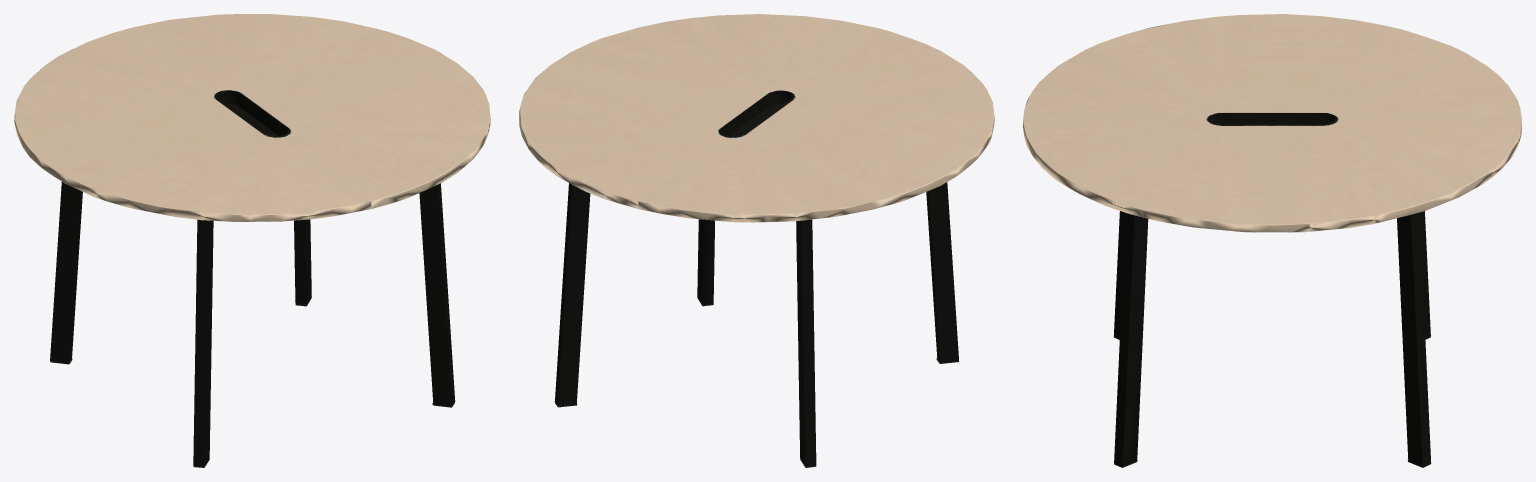
Rendered from 106 - MITTZON - 會議桌, 圓形 實木貼皮, 樺木黑色, 120x75 公分 IKEA 線上購物.glb.
3 renders of one model, left to right at view 1: azimuth 30°, elevation 25°; view 2: azimuth 150°, elevation 25°; view 3: azimuth 270°, elevation 25°, orthographic. The views are drawn at different scales.
Parts seen in each view (by area): view 1: Mesh_1, Mesh_0; view 2: Mesh_1, Mesh_0; view 3: Mesh_1, Mesh_0.
Boxes of the visible parts, <box> form: Mesh_1: <box>14,14,490,467</box>; Mesh_0: <box>214,90,290,137</box>; Mesh_1: <box>519,14,994,467</box>; Mesh_0: <box>718,90,795,137</box>; Mesh_1: <box>1023,14,1521,467</box>; Mesh_0: <box>1207,113,1337,125</box>.
Bounding box in the file's own units: 1.2 × 0.7499 × 1.2.
Materials: 2 (2 with a texture image).
